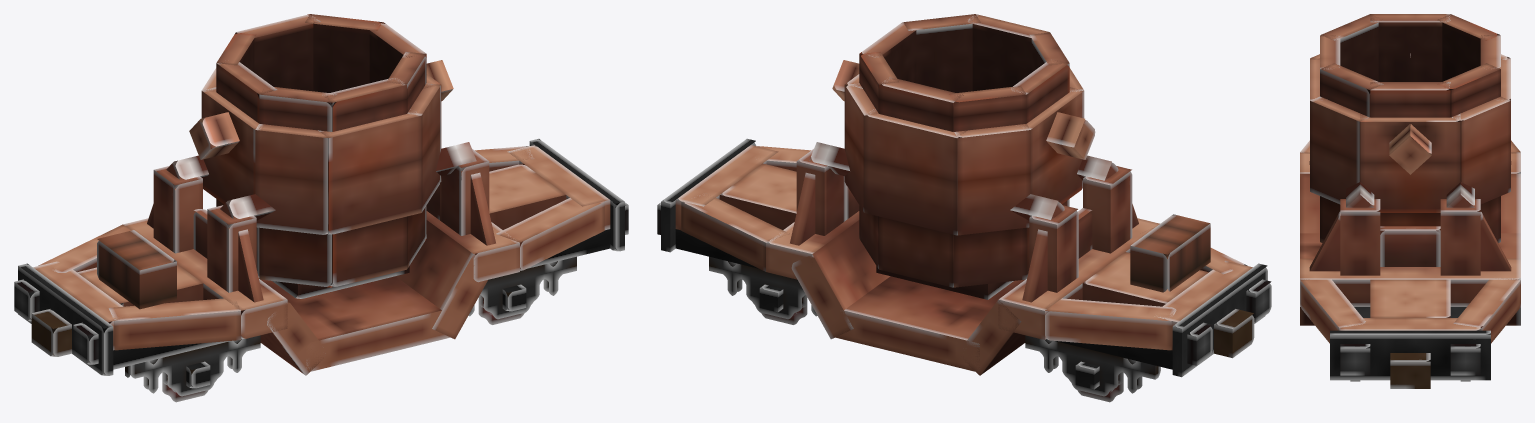
Rendered from lava.obj.
The picture shows the model from 3 angles, left to right: view 1: azimuth 30°, elevation 25°; view 2: azimuth 150°, elevation 25°; view 3: azimuth 270°, elevation 25°; orthographic projection. The views are drawn at different scales.
Parts seen in each view (by area): view 1: box30, box15, box36, box28, box19, box60, box14, box, box22, box54, box17, box34 (+35 smaller); view 2: box29, box15, box32, box17, box18, box14, box59, box, box21, box52, box28, box34 (+35 smaller); view 3: box33, box10, box37, box31, box16, box7, box27, box55, box23, box45, box22, box21 (+23 smaller).
Boxes of the visible parts, x1,y1,x2,y2 form: box30: [318, 109, 421, 234]; box15: [259, 276, 450, 371]; box36: [255, 124, 330, 234]; box28: [322, 78, 406, 286]; box19: [259, 87, 336, 287]; box60: [108, 298, 240, 350]; box14: [395, 220, 487, 339]; box: [97, 230, 176, 309]; box22: [305, 14, 382, 92]; box54: [496, 198, 604, 270]; box17: [236, 14, 320, 91]; box34: [201, 87, 264, 203]; box29: [864, 109, 967, 235]; box15: [835, 276, 1024, 371]; box32: [954, 124, 1030, 235]; box17: [879, 77, 963, 287]; box18: [949, 86, 1026, 287]; box14: [791, 220, 890, 339]; box59: [1045, 298, 1176, 350]; box: [1130, 214, 1210, 292]; box21: [903, 14, 980, 92]; box52: [681, 193, 789, 271]; box28: [968, 14, 1049, 91]; box34: [1016, 87, 1084, 203]; box33: [1360, 113, 1460, 212]; box10: [1330, 330, 1490, 380]; box37: [1452, 96, 1510, 204]; box31: [1310, 96, 1368, 204]; box16: [1370, 14, 1450, 81]; box7: [1300, 258, 1520, 306]; box27: [1370, 82, 1450, 230]; box55: [1370, 279, 1450, 317]; box23: [1440, 199, 1480, 275]; box45: [1340, 199, 1380, 275]; box22: [1437, 63, 1500, 242]; box21: [1320, 63, 1383, 242].
Bounding box in the file's own units: 3.75 × 1.81 × 1.38.
1 material, 1 textured.
